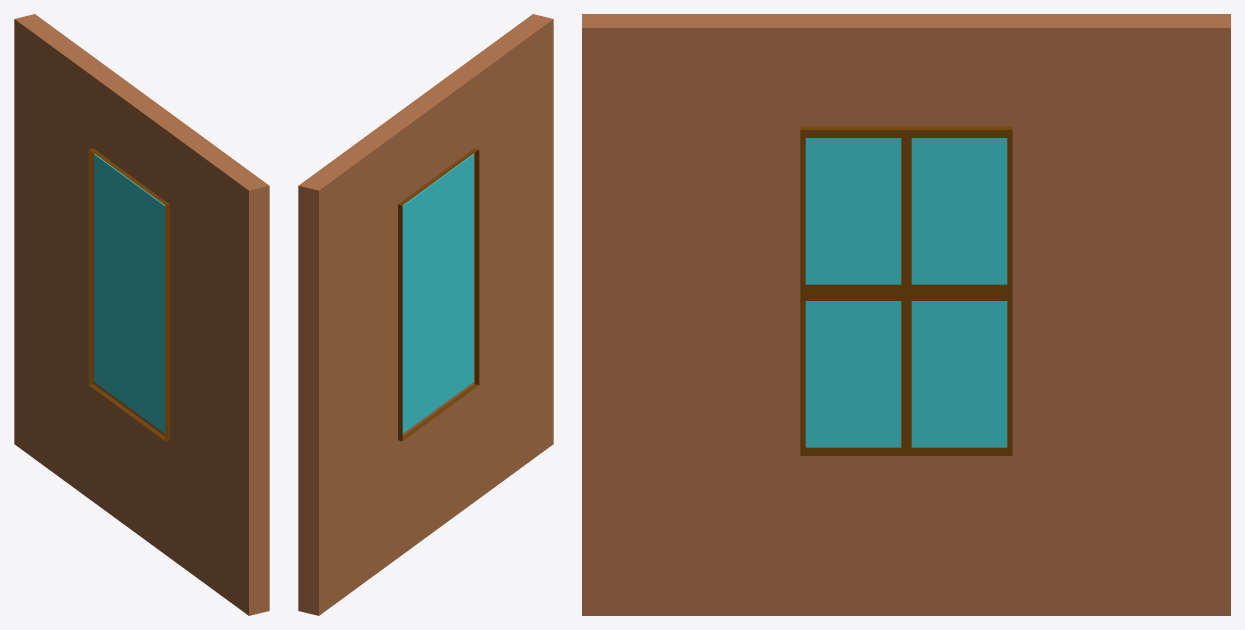
File: window1.fbx
3 renders of one model, left to right at view 1: azimuth 30°, elevation 25°; view 2: azimuth 150°, elevation 25°; view 3: azimuth 270°, elevation 25°, orthographic. The views are drawn at different scales.
Parts seen in each view (by area): view 1: Cube.001, Cube.003, Cube.002; view 2: Cube.001, Cube.003, Cube.002; view 3: Cube.001, Cube.003, Cube.002.
Part boxes in pixels (x1,y1,x2,y2): Cube.001: [14, 14, 269, 615]; Cube.003: [94, 154, 165, 433]; Cube.002: [88, 148, 169, 441]; Cube.001: [298, 14, 553, 615]; Cube.003: [402, 154, 473, 433]; Cube.002: [398, 148, 479, 441]; Cube.001: [582, 14, 1230, 615]; Cube.003: [805, 138, 1007, 447]; Cube.002: [800, 126, 1012, 455].
Size of the model in its own units: 14.64 by 200 by 200.
